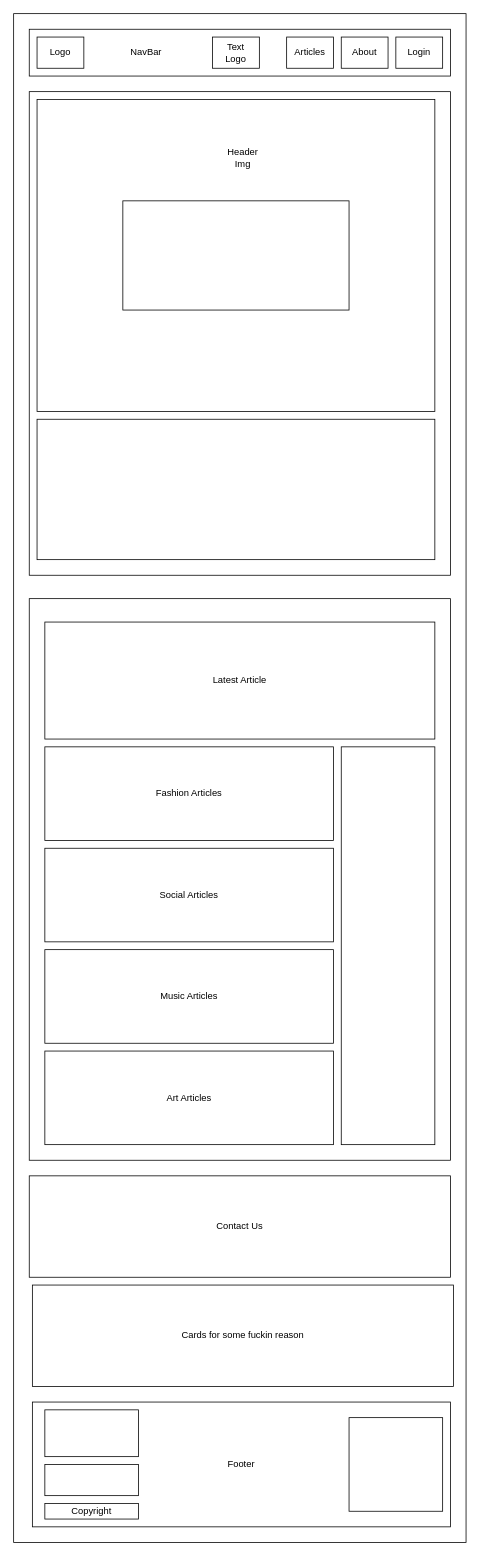
Some shapes in this 480 by 1556 pixel diagram are drawn without their labels. Here are the shapes that lost their labels. From the top down, the centre of each, then its label:
(235,255): Text Logo Bigger
(235,489): Quote Frame
(387,945): Featured/Popular Articles IDK
(91,1433): Branding
(91,1480): Socials
(395,1464): Contents Thing
